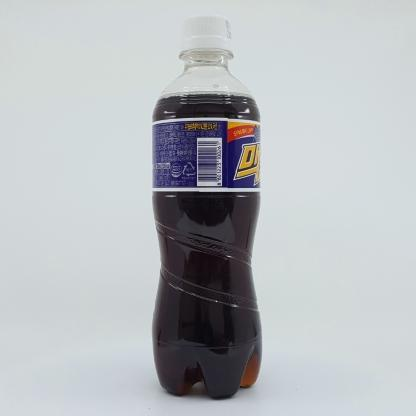-----500ML: (152, 14, 263, 399)
